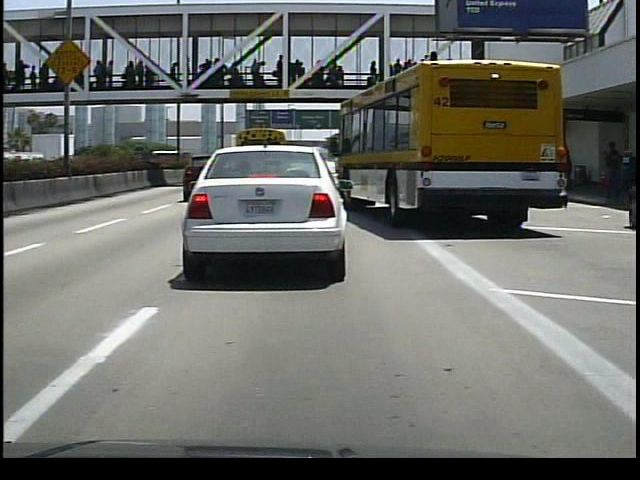person: (601, 141, 629, 206)
